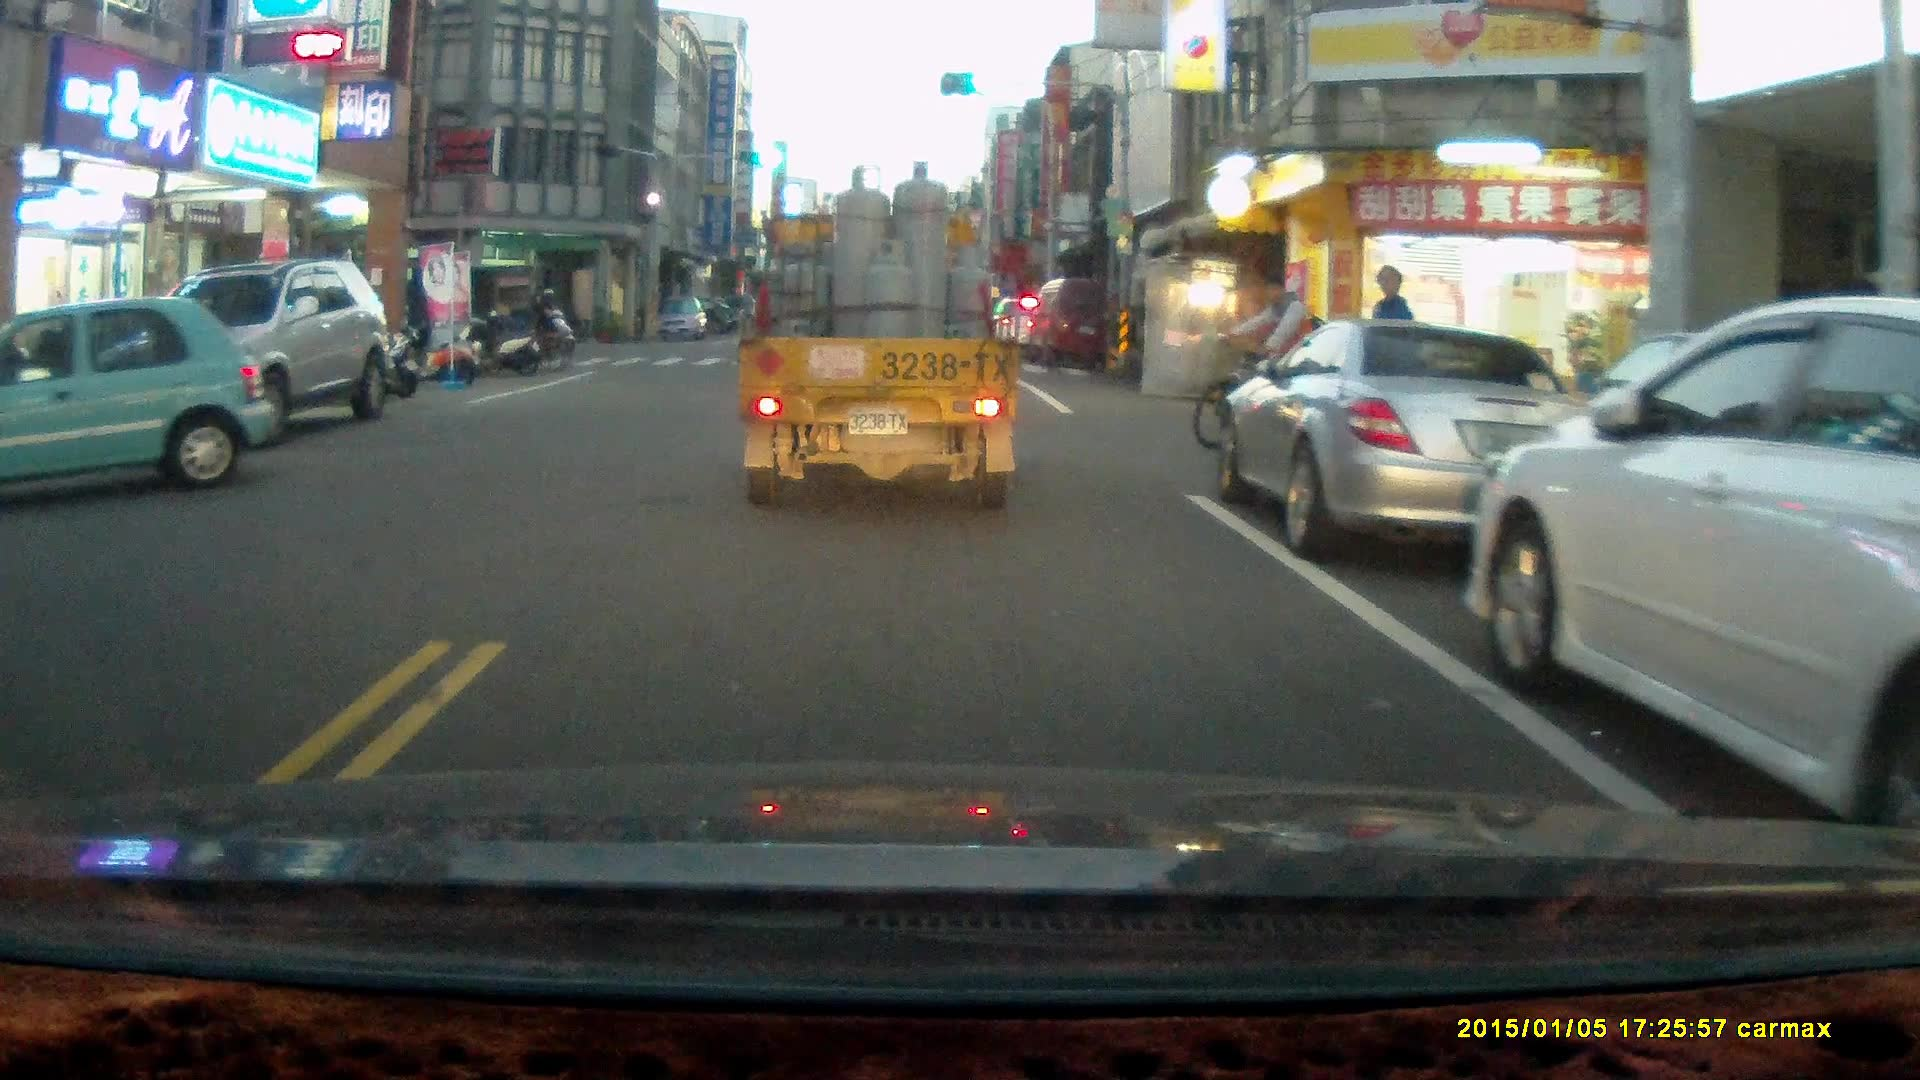rider: (1193, 270, 1356, 454), (516, 284, 579, 360)
vehicle: (1466, 289, 1920, 849), (737, 162, 1026, 515), (1218, 322, 1618, 562), (1, 295, 274, 497), (126, 257, 395, 440), (333, 261, 542, 365), (1031, 273, 1134, 372), (656, 297, 709, 345)
